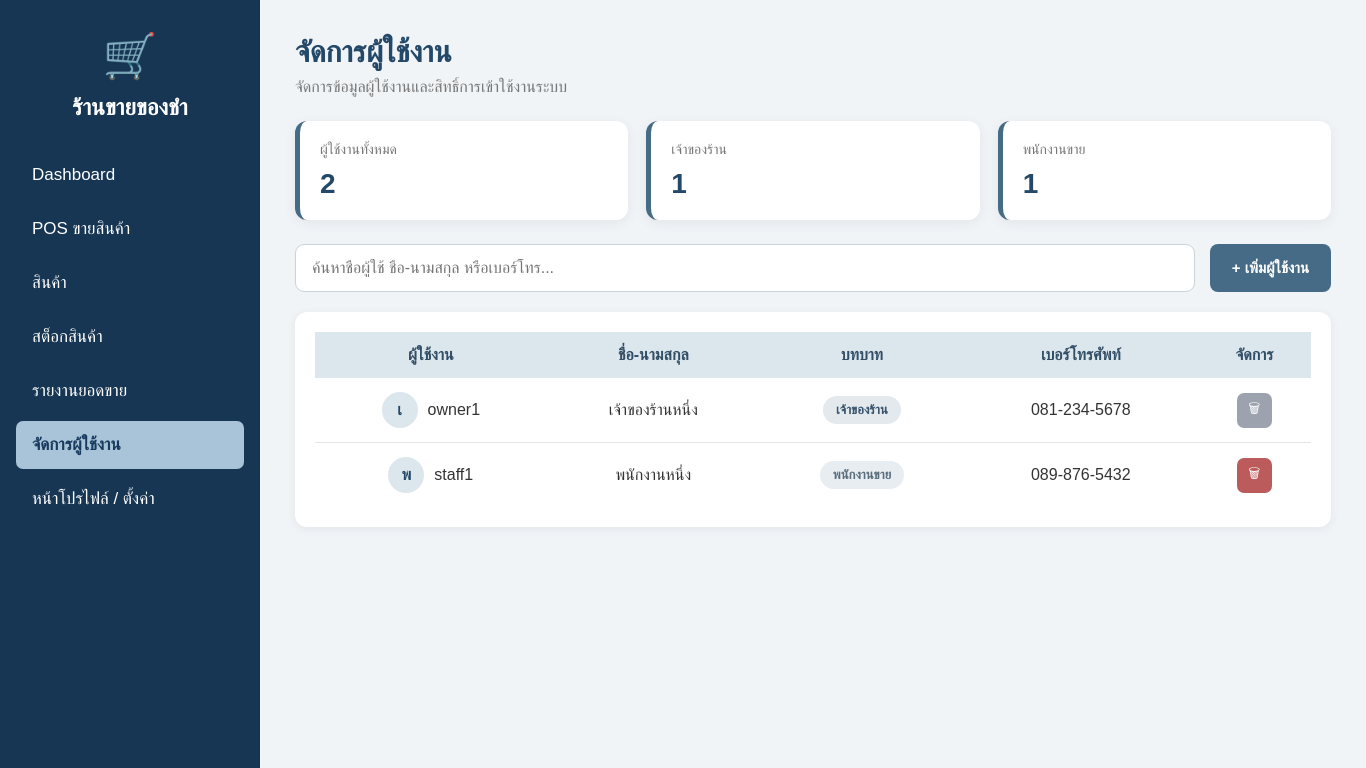
Users page (real component) › ค้นหาผู้ใช้งานตามชื่อได้
The image size is (1366, 768).
Expected: the text "staff1" is shown, [434,466,473,483]
Type "staff1" into the search field named "ค้นหาผู้ใช้งาน" at coordinates (745, 268), box [295,244,1195,292]
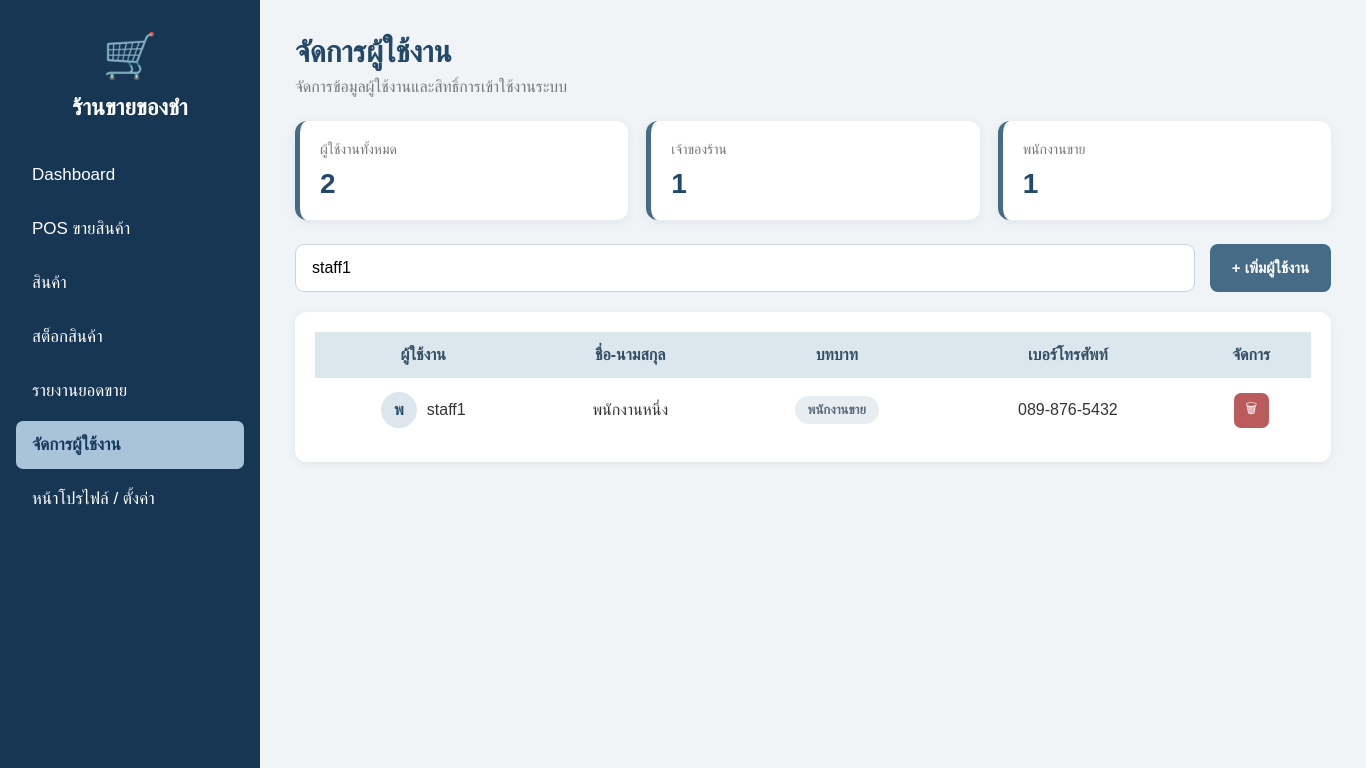
Expected: the text "staff1" is shown, [427,401,466,418]
Now the text "owner1" is gone
